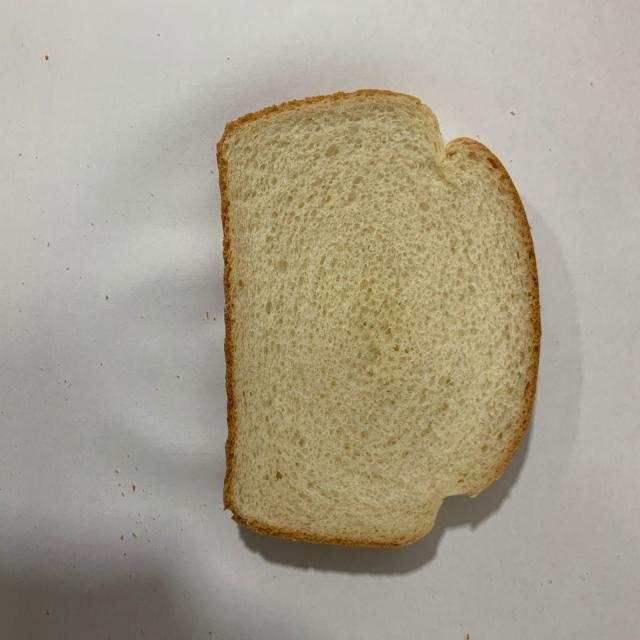pan: (215, 90, 541, 547)
